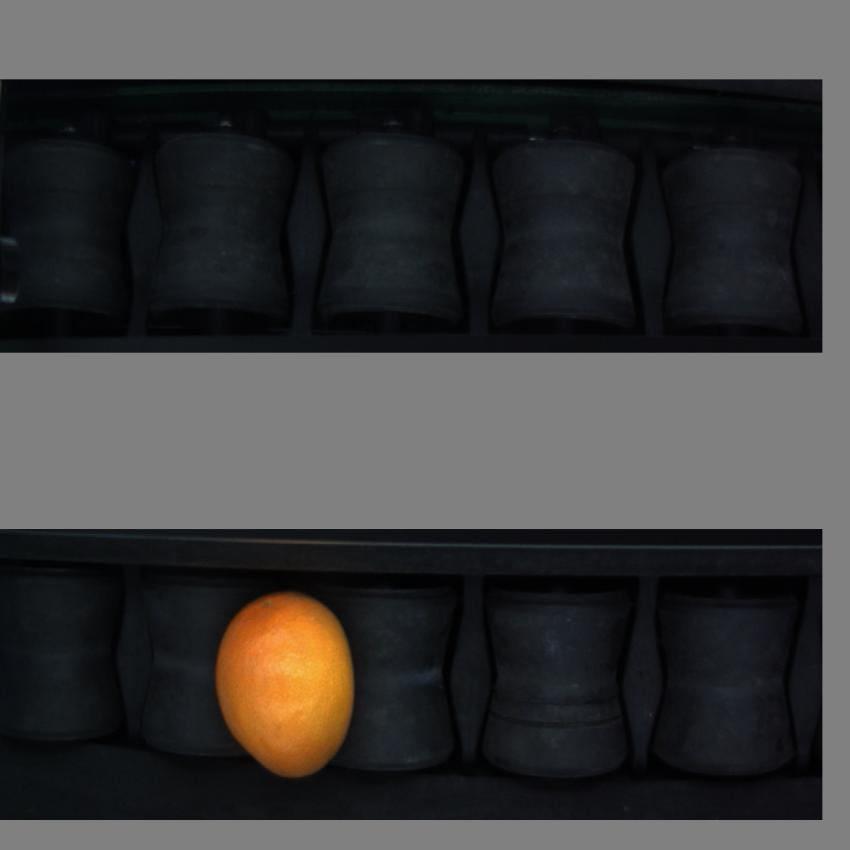Buen estado: (208, 580, 366, 794)
